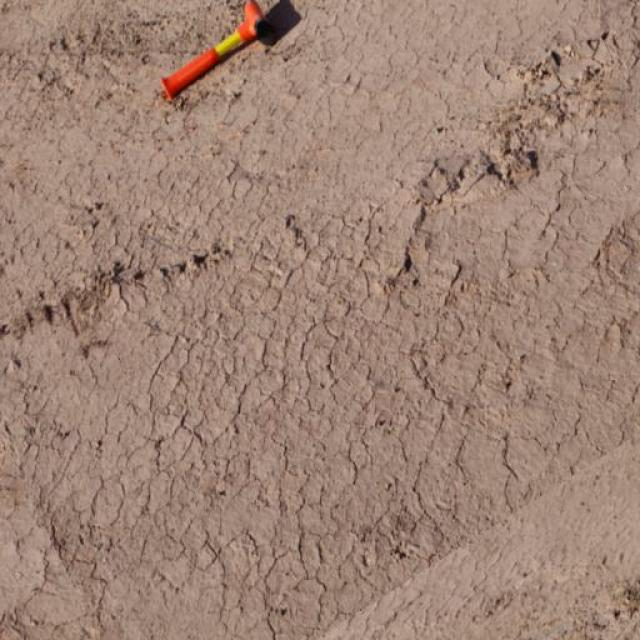mallet: (158, 0, 280, 101)
